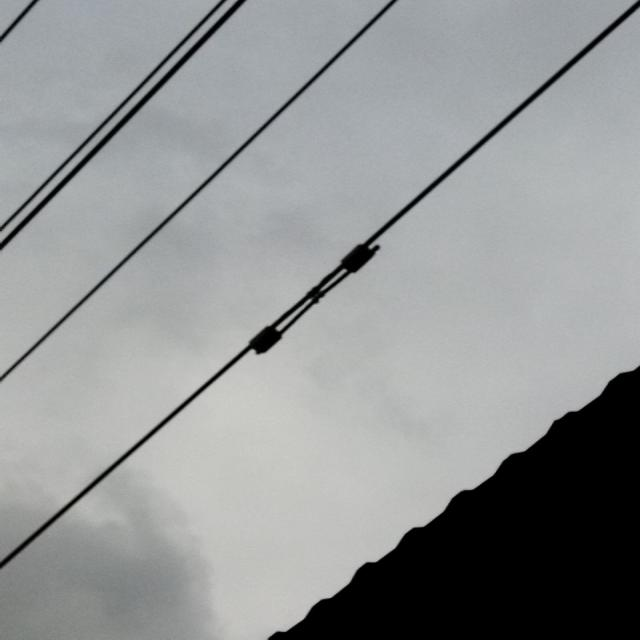wire: (0, 0, 639, 591), (0, 0, 249, 260), (1, 0, 228, 234), (0, 0, 43, 47)
